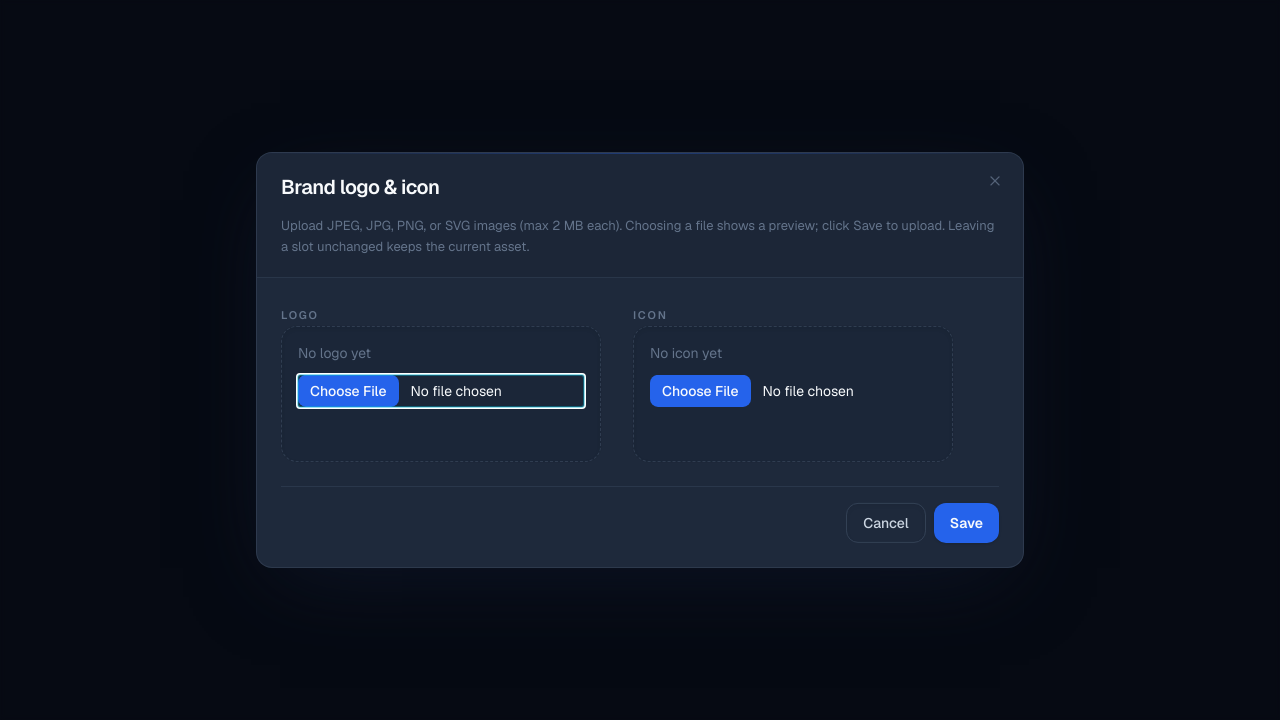
Scenario: BrandingMediaDrawer › surfaces branding save errors inline
Click the button "Save" at [966, 523], box top-left (934, 503), bottom-right (999, 543)
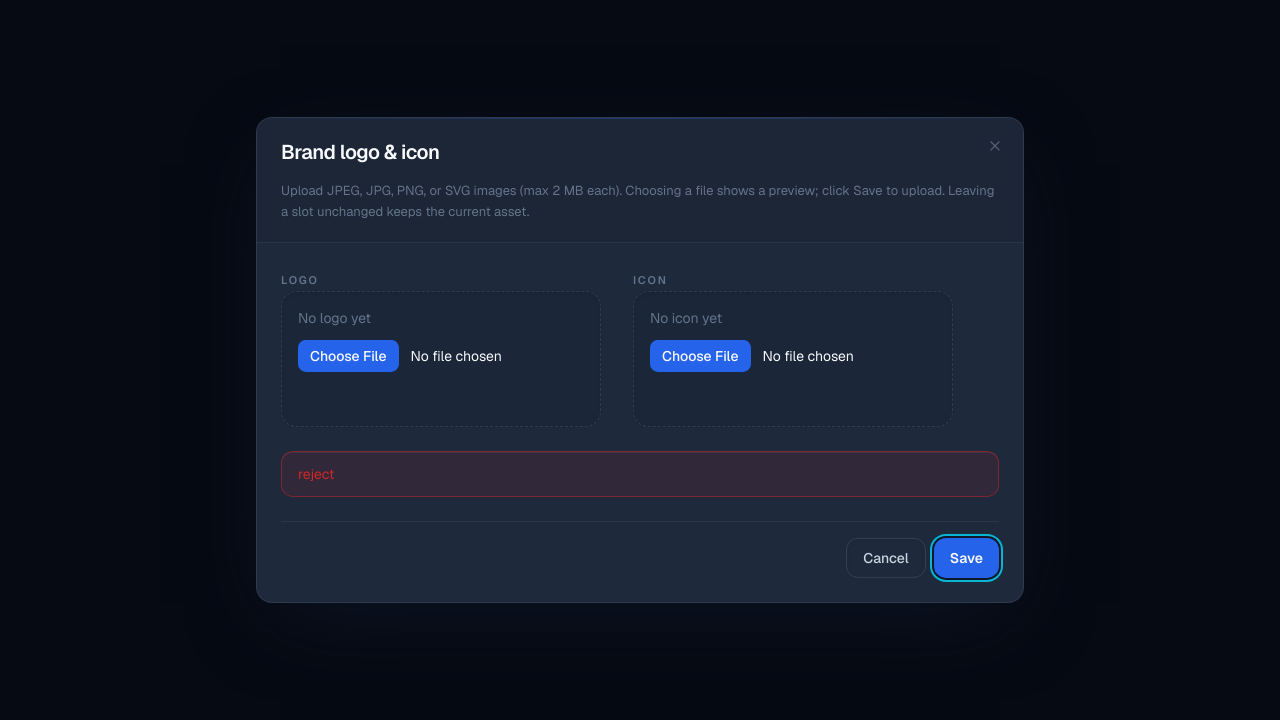
Check: the message reads "reject", box top-left (298, 465), bottom-right (334, 483)
